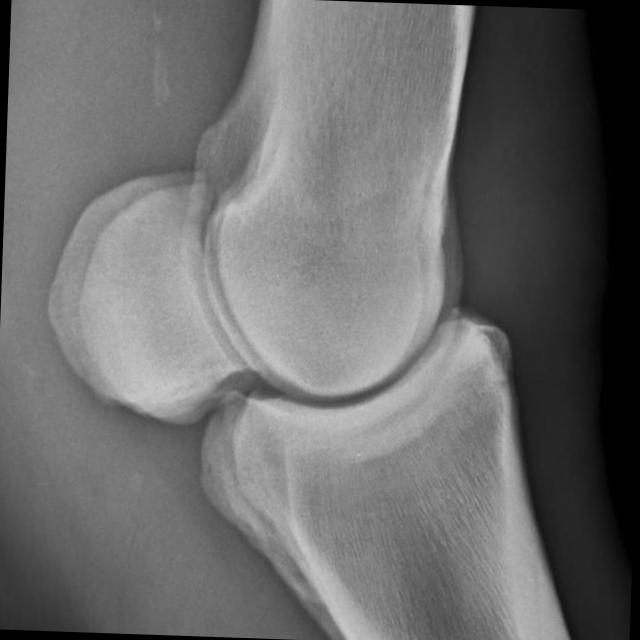bone remodeling: (458, 295, 539, 398)
